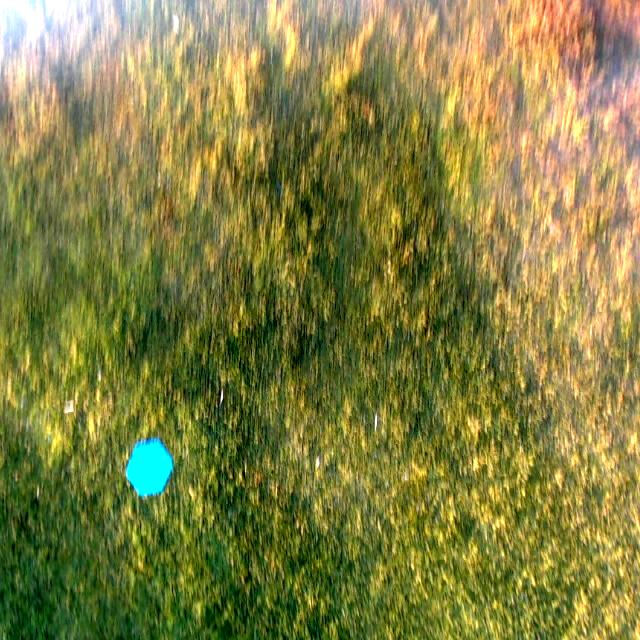blue_hexagon: (126, 440, 173, 498)
